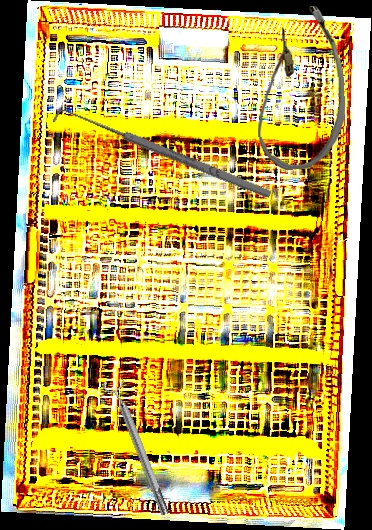Cannula: (251, 4, 349, 172)
Fixation Ring: (101, 375, 176, 519)
Hook Surgical: (52, 101, 273, 209)
